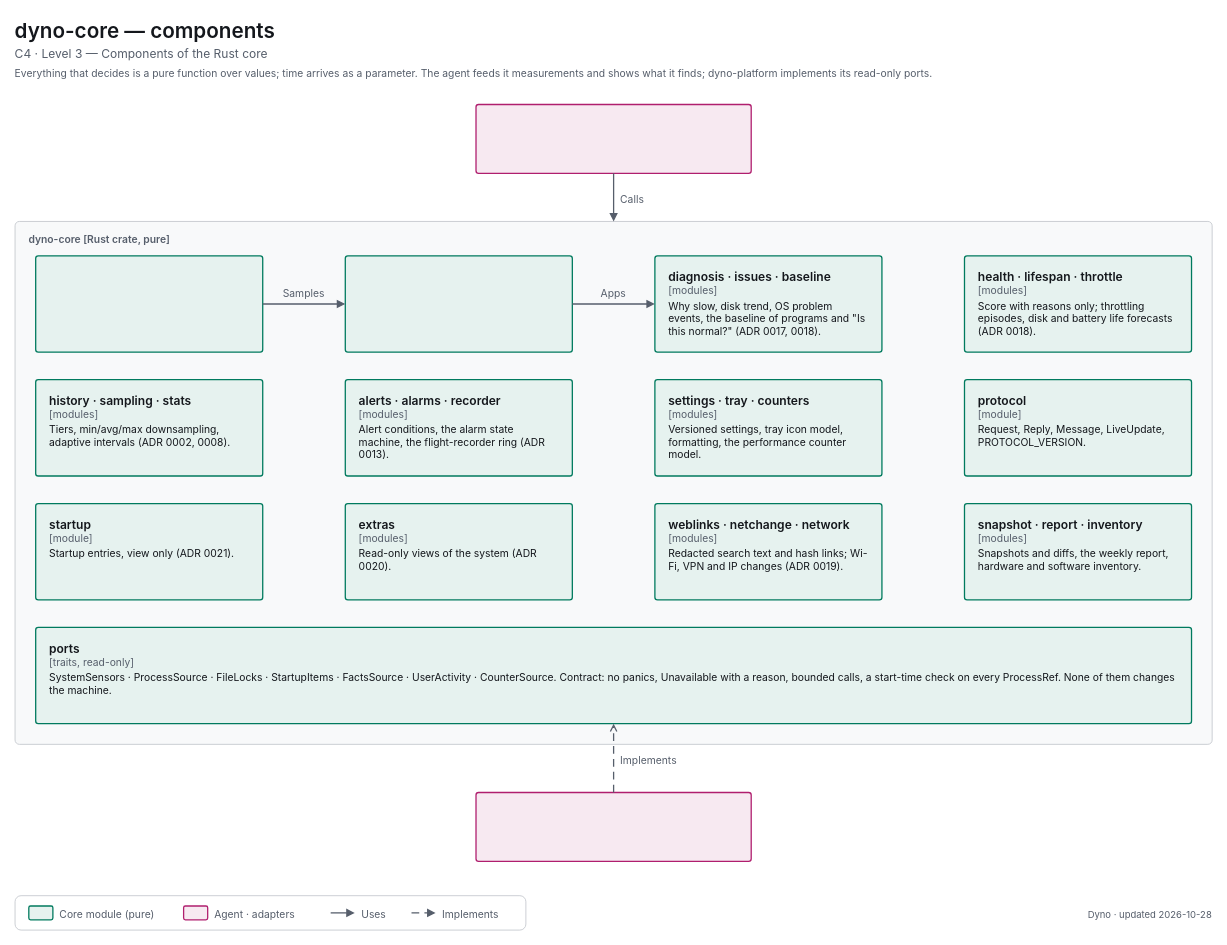
Some shapes in this 1227 by 945 pixel diagram are drawn without their labels. Each missing label, with the centre of its shape:
"dyno-agent [Rust, process] Feeds values in, serves the results." belongs at (x=613, y=138).
"dyno-platform [Rust, adapters] Implements the ports per OS." belongs at (x=613, y=826).
"grouping [module] Processes into applications (ADR 0003)." belongs at (x=458, y=303).
"metrics · process [modules] SystemSample, ProcessSample, ProcessRef, Reading<T>." belongs at (x=149, y=303).
